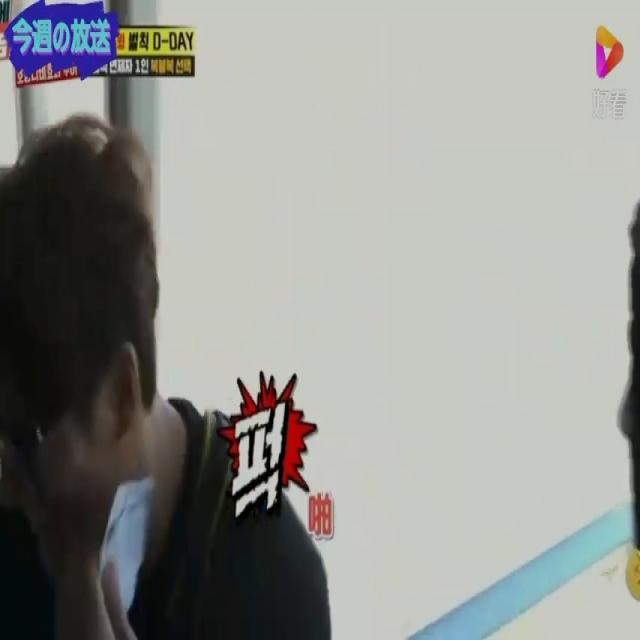non-fight: (0, 88, 387, 639)
